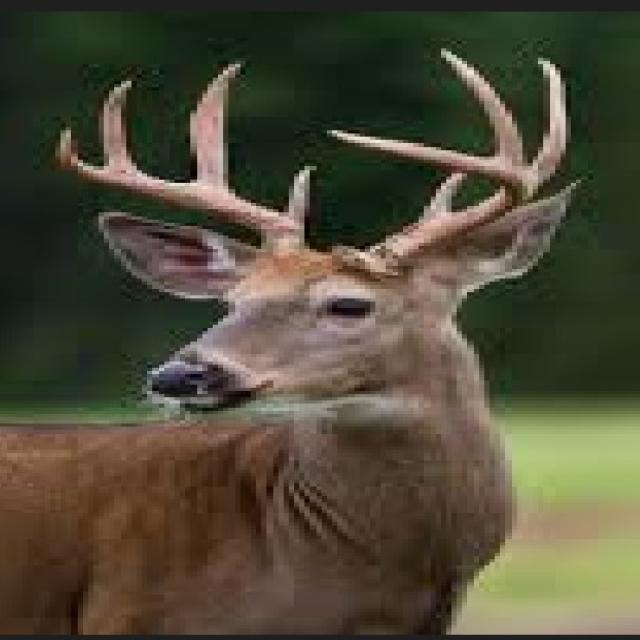L-F: (327, 129, 539, 279)
L-G1: (416, 173, 469, 219)
L-G2: (530, 56, 572, 191)
L-G3: (439, 47, 526, 166)
R-F: (54, 126, 306, 257)
R-G1: (285, 164, 320, 225)
R-G2: (189, 59, 248, 191)
R-G3: (102, 79, 138, 173)
